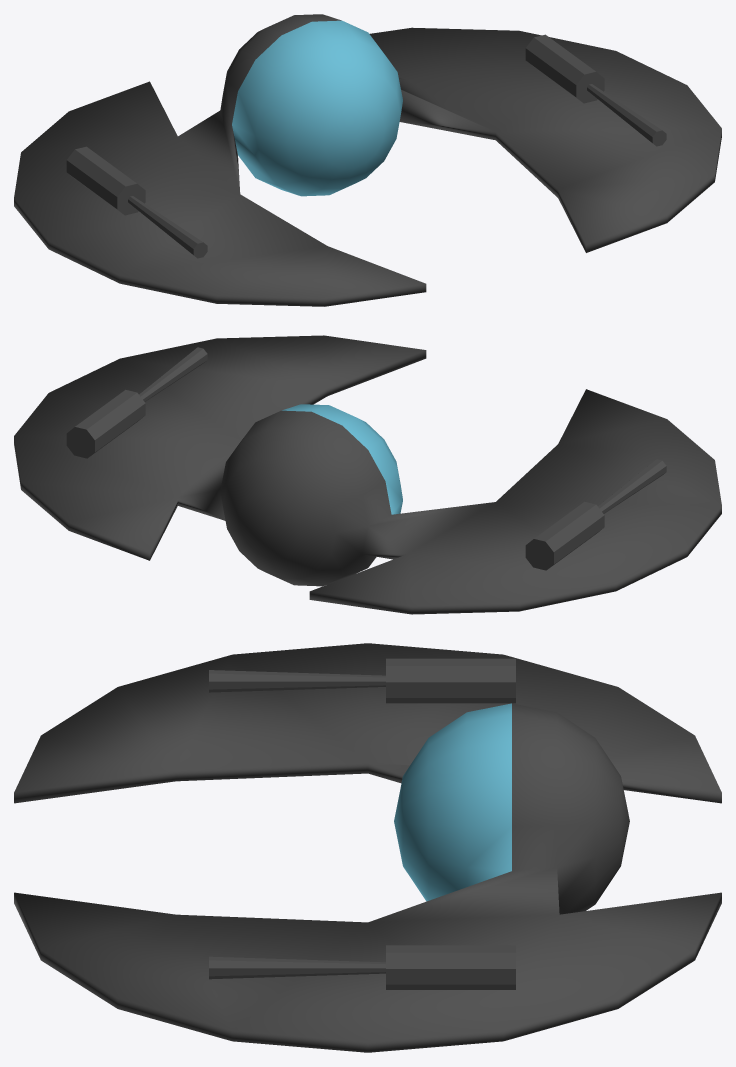
The model's file is lowpoly_spaceships.fbx.
The picture shows the model from 3 angles, top to bottom: view 1: azimuth 30°, elevation 25°; view 2: azimuth 150°, elevation 25°; view 3: azimuth 270°, elevation 25°; orthographic projection. The views are drawn at different scales.
Visible parts, largest first — view 1: NightHunter; view 2: NightHunter; view 3: NightHunter.
Part boxes in pixels (left/top/right/bottom): NightHunter: left=14, top=14, right=721, bottom=306; NightHunter: left=14, top=335, right=721, bottom=614; NightHunter: left=14, top=643, right=721, bottom=1052.
Bounding box in the file's own units: 8 × 2 × 6.
